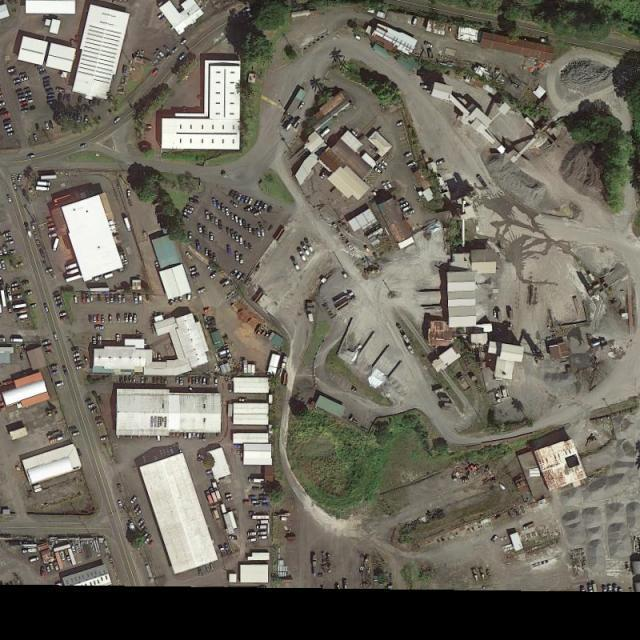vehicle: (209, 487, 219, 503), (123, 217, 133, 233), (206, 490, 214, 505), (52, 238, 60, 252), (249, 478, 264, 485), (14, 303, 27, 310), (35, 186, 50, 192), (185, 251, 194, 260), (62, 365, 69, 376), (190, 198, 199, 206), (37, 182, 51, 187), (172, 46, 180, 54), (7, 70, 16, 77), (59, 311, 68, 318), (38, 249, 45, 258), (3, 231, 12, 238), (400, 202, 409, 209), (154, 261, 161, 270), (44, 303, 50, 313), (54, 382, 64, 388), (424, 42, 434, 48), (113, 118, 121, 125), (45, 267, 53, 274), (243, 196, 250, 204), (182, 215, 190, 222), (210, 272, 218, 279), (375, 167, 383, 174), (386, 181, 393, 189), (382, 182, 389, 190), (6, 67, 15, 73), (2, 118, 11, 124), (1, 261, 7, 270), (14, 263, 23, 269), (49, 364, 58, 370), (51, 370, 60, 376), (258, 202, 264, 211), (184, 208, 193, 214), (226, 245, 232, 254), (229, 536, 238, 542), (75, 361, 84, 367), (27, 154, 37, 159), (54, 300, 64, 305), (94, 416, 104, 421), (205, 375, 210, 385), (210, 562, 215, 572), (179, 54, 186, 61), (404, 206, 411, 213), (130, 497, 137, 504), (134, 506, 141, 513), (138, 519, 145, 526), (157, 50, 164, 57), (203, 564, 210, 571), (17, 93, 25, 99), (43, 122, 49, 130), (181, 38, 187, 46), (4, 124, 12, 130), (54, 295, 62, 301), (2, 246, 8, 254), (42, 340, 50, 346), (68, 426, 76, 432), (267, 206, 273, 214), (246, 206, 254, 212), (230, 202, 238, 208), (236, 194, 242, 202), (196, 242, 202, 250), (6, 194, 11, 203), (33, 232, 38, 241), (212, 198, 217, 207), (235, 252, 240, 261), (198, 224, 203, 233), (198, 566, 203, 575), (13, 78, 20, 84), (80, 143, 87, 149), (45, 350, 52, 356), (30, 303, 37, 309), (72, 432, 79, 438), (254, 211, 261, 217), (229, 190, 235, 197), (237, 272, 243, 279), (231, 270, 238, 276), (6, 128, 14, 133), (18, 98, 26, 103), (33, 134, 38, 142), (1, 112, 9, 117), (90, 409, 98, 414), (48, 234, 58, 238), (96, 422, 104, 427), (7, 241, 15, 246), (8, 250, 16, 255), (100, 436, 108, 441), (262, 203, 267, 211), (258, 222, 263, 230), (257, 230, 262, 238), (249, 198, 254, 206), (214, 218, 219, 226), (406, 211, 414, 216), (239, 254, 243, 264), (202, 228, 207, 236), (192, 274, 200, 279), (225, 497, 233, 502), (118, 501, 123, 509), (71, 346, 79, 351), (128, 376, 133, 384), (258, 521, 268, 525), (152, 70, 158, 76), (12, 185, 18, 191), (114, 293, 118, 302), (134, 294, 138, 303), (206, 210, 210, 219), (405, 152, 411, 158), (493, 309, 497, 318), (210, 233, 214, 242), (30, 558, 39, 562), (144, 539, 150, 545), (136, 510, 142, 516), (98, 336, 102, 345), (93, 337, 97, 346), (141, 524, 147, 530), (257, 526, 266, 530), (19, 73, 26, 78), (22, 109, 29, 114), (34, 123, 39, 130), (57, 304, 64, 309), (87, 404, 94, 409), (25, 290, 32, 295), (254, 201, 259, 208), (437, 160, 444, 165), (382, 161, 389, 166), (191, 271, 198, 276), (149, 541, 154, 548), (73, 353, 80, 358), (74, 357, 81, 362), (145, 294, 150, 301), (39, 70, 46, 75), (18, 174, 22, 182), (11, 175, 15, 183), (82, 295, 86, 303), (86, 294, 90, 302), (90, 295, 94, 303), (106, 294, 110, 302), (110, 294, 114, 302), (138, 294, 142, 302), (6, 237, 14, 241), (109, 314, 113, 322), (238, 218, 242, 226), (262, 230, 266, 238), (244, 240, 248, 248), (231, 230, 235, 238), (186, 206, 194, 210), (210, 214, 214, 222), (209, 251, 213, 259), (206, 249, 210, 257), (214, 378, 218, 386), (239, 398, 247, 402), (198, 290, 206, 294), (192, 377, 196, 385), (116, 314, 120, 322), (134, 314, 138, 322), (77, 114, 81, 122), (380, 165, 386, 170), (21, 77, 28, 81), (23, 87, 30, 91), (74, 296, 78, 303), (118, 295, 122, 302), (12, 282, 19, 286), (54, 333, 58, 340), (230, 213, 234, 220), (217, 202, 221, 209), (249, 243, 253, 250), (226, 227, 230, 234), (188, 377, 192, 384), (175, 377, 179, 384), (119, 377, 123, 384), (84, 116, 88, 123), (56, 88, 63, 92), (236, 233, 239, 242), (1, 102, 6, 107), (16, 90, 22, 94), (26, 92, 32, 96), (127, 190, 130, 198), (89, 314, 92, 322), (93, 315, 96, 323), (97, 314, 100, 322), (101, 314, 104, 322), (226, 209, 230, 215), (219, 221, 222, 229), (241, 197, 245, 203), (214, 254, 217, 262), (188, 233, 191, 241), (202, 377, 205, 385), (180, 377, 183, 385), (95, 326, 103, 329), (117, 334, 120, 342), (125, 376, 128, 384), (144, 377, 147, 385), (157, 376, 160, 384), (248, 533, 256, 536), (259, 532, 267, 535), (253, 500, 259, 504), (98, 294, 101, 301), (122, 295, 125, 302), (243, 220, 246, 227), (240, 237, 243, 244), (199, 377, 202, 384), (41, 569, 44, 576), (133, 376, 136, 383), (141, 376, 144, 383), (153, 376, 156, 383), (249, 539, 256, 542), (259, 537, 266, 540), (226, 494, 231, 498), (253, 229, 256, 235), (235, 192, 238, 198), (161, 378, 164, 384), (164, 378, 167, 384), (1, 247, 3, 255), (236, 215, 238, 223), (125, 314, 127, 322), (130, 314, 132, 322), (249, 225, 251, 232), (222, 203, 224, 210), (196, 377, 198, 384), (243, 501, 250, 503), (38, 68, 45, 70)
